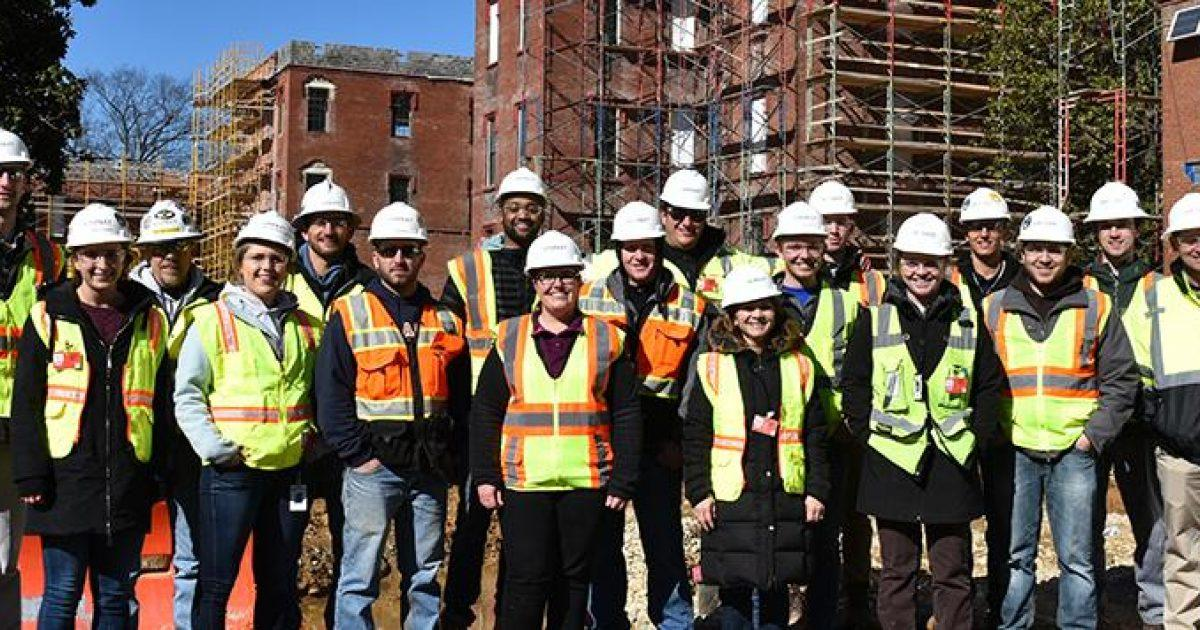helmet: (135, 200, 205, 248), (66, 204, 132, 251), (368, 203, 430, 251), (524, 233, 588, 279), (1086, 184, 1157, 225), (1021, 207, 1081, 254), (238, 212, 298, 258), (298, 182, 360, 226), (722, 271, 790, 311), (897, 214, 953, 261), (774, 201, 834, 243), (614, 202, 670, 244), (665, 171, 717, 214), (495, 170, 547, 209), (961, 188, 1012, 225), (1166, 192, 1200, 243), (1, 130, 34, 178), (815, 183, 859, 217)
